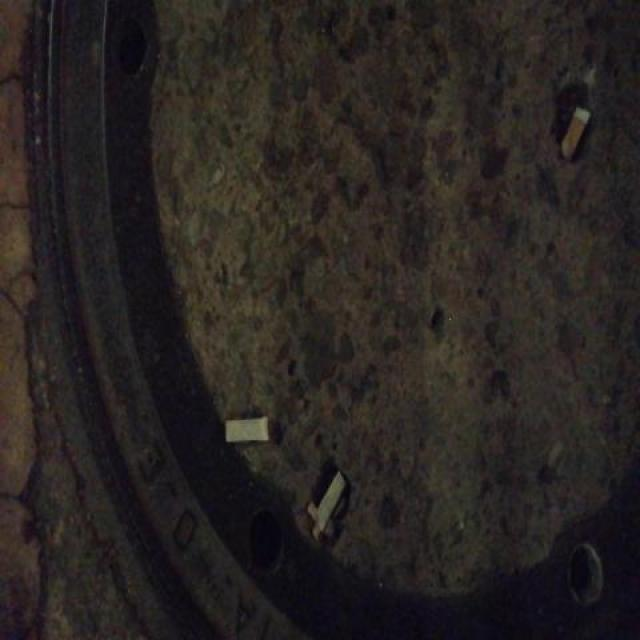non-organic waste: (314, 466, 349, 534), (555, 104, 594, 164), (221, 414, 272, 446)
